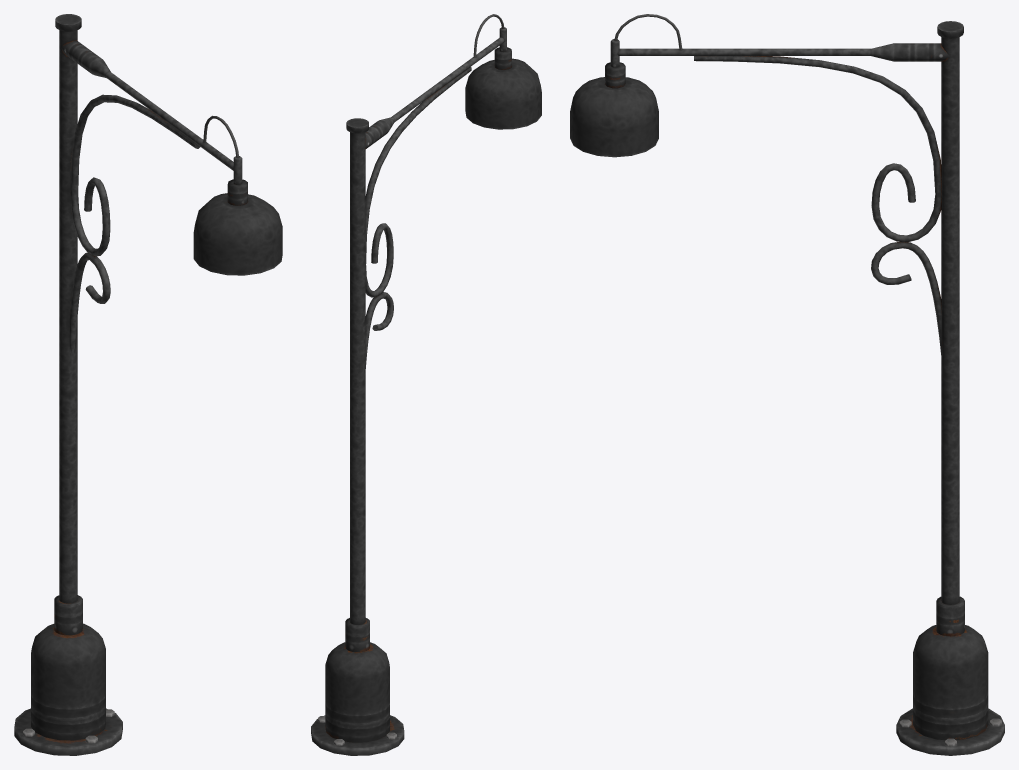
The model's file is Lamp_Street3.fbx.
The picture shows the model from 3 angles, left to right: view 1: azimuth 30°, elevation 25°; view 2: azimuth 150°, elevation 25°; view 3: azimuth 270°, elevation 25°; orthographic projection. The views are drawn at different scales.
Parts seen in each view (by area): view 1: Lamp_Street3_LOD0; view 2: Lamp_Street3_LOD0; view 3: Lamp_Street3_LOD0.
Boxes of the visible parts, box(x1,y1,x2,y2) form: Lamp_Street3_LOD0: box(14, 14, 282, 755); Lamp_Street3_LOD0: box(311, 14, 541, 755); Lamp_Street3_LOD0: box(570, 14, 1004, 755).
Size of what is drawn, in the model's own units: 56.08 by 410 by 225.
